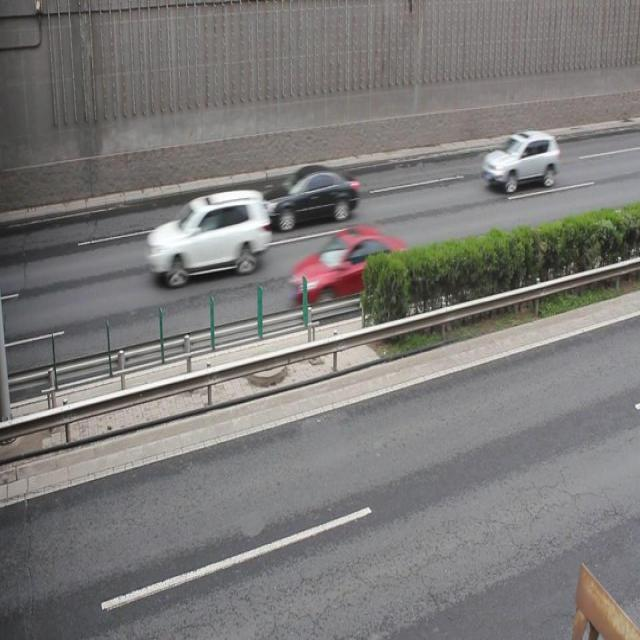car: (145, 190, 266, 286), (293, 227, 409, 308), (262, 162, 357, 230), (482, 129, 558, 191)
